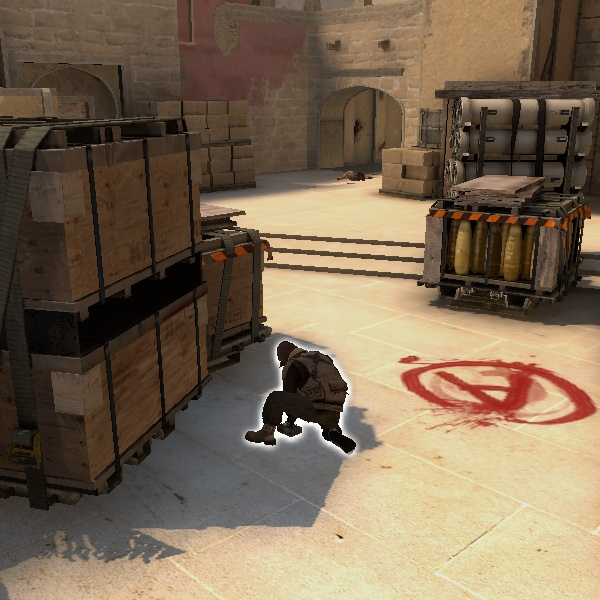t_body: (245, 337, 365, 447)
